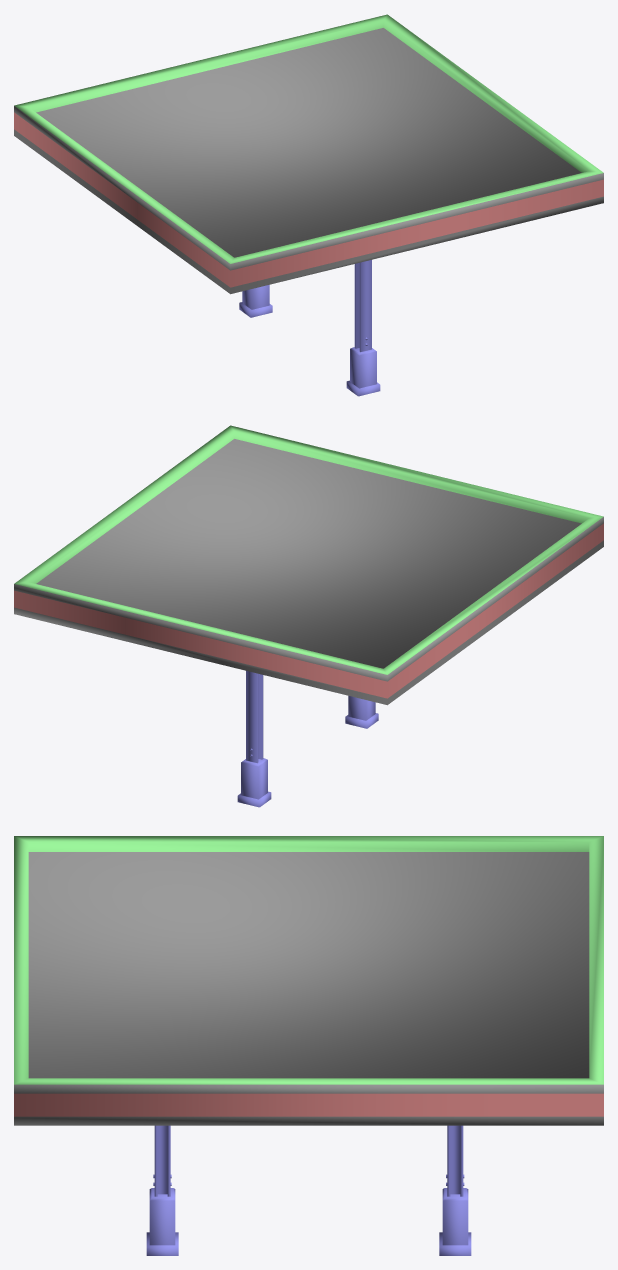
The model's file is SM_gasStationCarPort_01.gltf.
3 renders of one model, top to bottom at view 1: azimuth 30°, elevation 25°; view 2: azimuth 150°, elevation 25°; view 3: azimuth 270°, elevation 25°, orthographic. The views are drawn at different scales.
Visible parts, largest first — view 1: SM_gasStationCarPort_01; view 2: SM_gasStationCarPort_01; view 3: SM_gasStationCarPort_01.
Boxes of the visible parts, x1,y1,x2,y2 form: SM_gasStationCarPort_01: [14, 14, 603, 396]; SM_gasStationCarPort_01: [14, 425, 603, 807]; SM_gasStationCarPort_01: [14, 836, 603, 1255].
Bounding box in the file's own units: 8.03 × 4.34 × 8.06.
